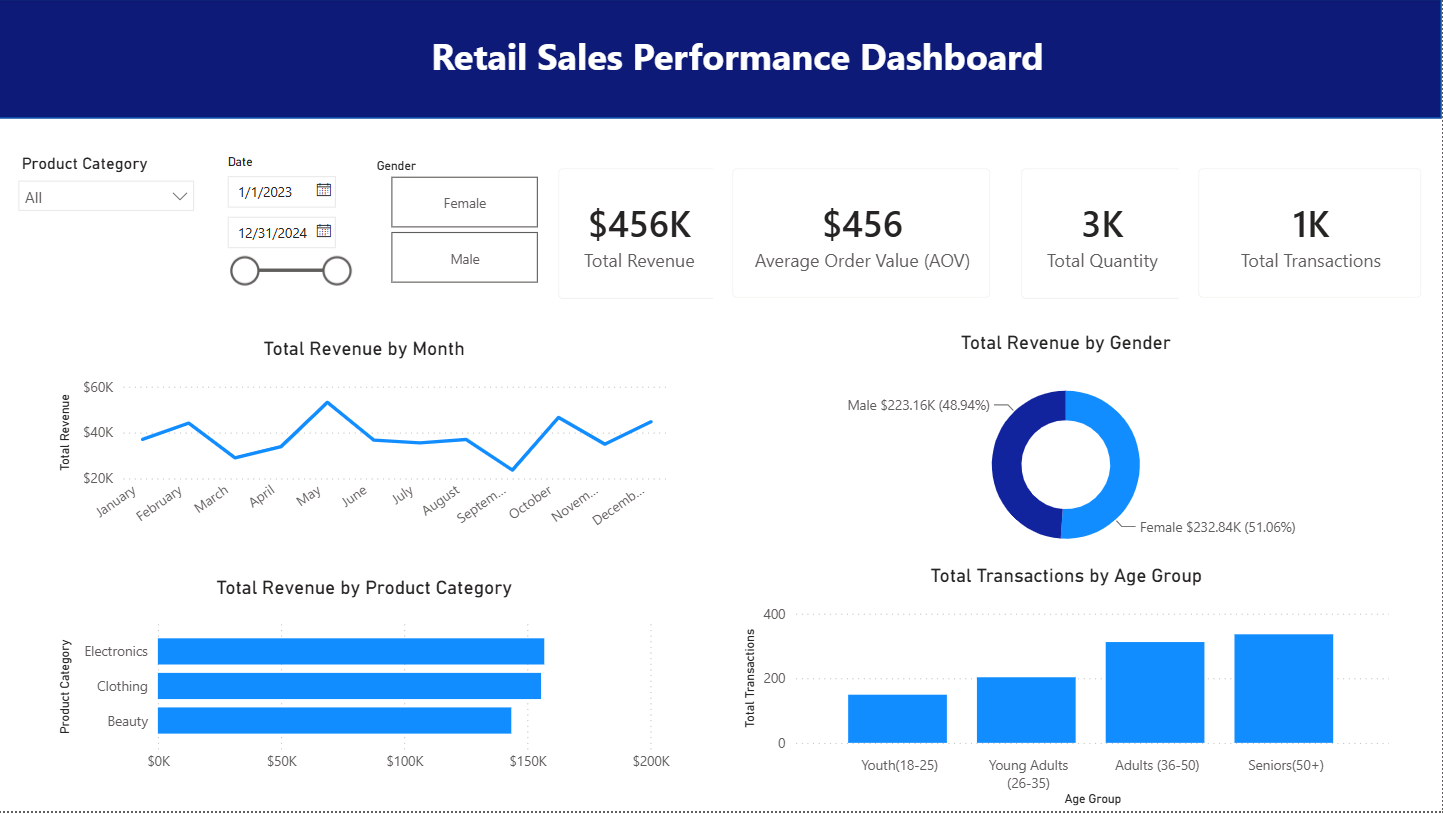

The dashboard page shown, as its layout file describes it:
{"tool":"powerbi","page":{"name":"Page 1","canvas":[1280,720],"ordinal":0},"visuals":[{"type":"slicer","fields":{"Values":["retail_sales_dataset.Gender"]},"box":[322.6,136.5,180.4,122.2],"z":0},{"type":"slicer","fields":{"Values":["retail_sales_dataset.Product Category"]},"box":[7.6,132.7,176,122.6],"z":1000},{"type":"slicer","fields":{"Values":["Calendar Table.Date"]},"box":[190.9,132.7,131.3,129.4],"z":2000},{"type":"cardVisual","fields":{"Data":["_Key Measures.Total Revenue"]},"box":[480.1,132.7,176,150],"z":3000},{"type":"cardVisual","fields":{"Data":["_Key Measures.Average Order Value (AOV)"]},"box":[633.8,132.7,263.4,149.9],"z":4000},{"type":"cardVisual","fields":{"Data":["_Key Measures.Total Quantity"]},"box":[890.6,132.7,176,150],"z":5000},{"type":"cardVisual","fields":{"Data":["_Key Measures.Total Transactions"]},"box":[1047.1,132.7,232.9,149.9],"z":6000},{"type":"lineChart","fields":{"Y":["_Key Measures.Total Revenue"],"Category":["Calendar Table.Date.Variation.Date Hierarchy.Month"]},"box":[48.7,299.7,551.7,180.4],"z":7000},{"type":"clusteredBarChart","fields":{"Category":["retail_sales_dataset.Product Category"],"Y":["_Key Measures.Total Revenue"]},"box":[48.7,511.6,551.7,182.3],"z":8000},{"type":"donutChart","fields":{"Category":["retail_sales_dataset.Gender"],"Y":["_Key Measures.Total Revenue"]},"box":[699.7,294,494.4,207.1],"z":9000},{"type":"columnChart","fields":{"Y":["_Key Measures.Total Transactions"],"Category":["retail_sales_dataset.Age Group"]},"box":[655.7,501.1,582.3,218.6],"z":10000},{"type":"shape","box":[0,0,1280,106],"z":10001},{"type":"textbox","box":[256.8,22.9,797,61.1],"z":10002}]}

Visuals, with their boxes in screenshot pixels (x1, y1, x2, y2), scaled from the page's 1280x720 canvas onto the 1443x814 screenshot:
slicer - retail_sales_dataset.Gender: (x1=364, y1=154, x2=567, y2=292)
slicer - retail_sales_dataset.Product Category: (x1=9, y1=150, x2=207, y2=289)
slicer - Calendar Table.Date: (x1=215, y1=150, x2=363, y2=296)
cardVisual - _Key Measures.Total Revenue: (x1=541, y1=150, x2=740, y2=320)
cardVisual - _Key Measures.Average Order Value (AOV): (x1=715, y1=150, x2=1011, y2=319)
cardVisual - _Key Measures.Total Quantity: (x1=1004, y1=150, x2=1202, y2=320)
cardVisual - _Key Measures.Total Transactions: (x1=1180, y1=150, x2=1442, y2=319)
lineChart - _Key Measures.Total Revenue x Calendar Table.Date.Variation.Date Hierarchy.Month: (x1=55, y1=339, x2=677, y2=543)
clusteredBarChart - retail_sales_dataset.Product Category x _Key Measures.Total Revenue: (x1=55, y1=578, x2=677, y2=784)
donutChart - retail_sales_dataset.Gender x _Key Measures.Total Revenue: (x1=789, y1=332, x2=1346, y2=567)
columnChart - _Key Measures.Total Transactions x retail_sales_dataset.Age Group: (x1=739, y1=567, x2=1396, y2=813)
shape: (x1=0, y1=0, x2=1442, y2=120)
textbox: (x1=290, y1=26, x2=1188, y2=95)
